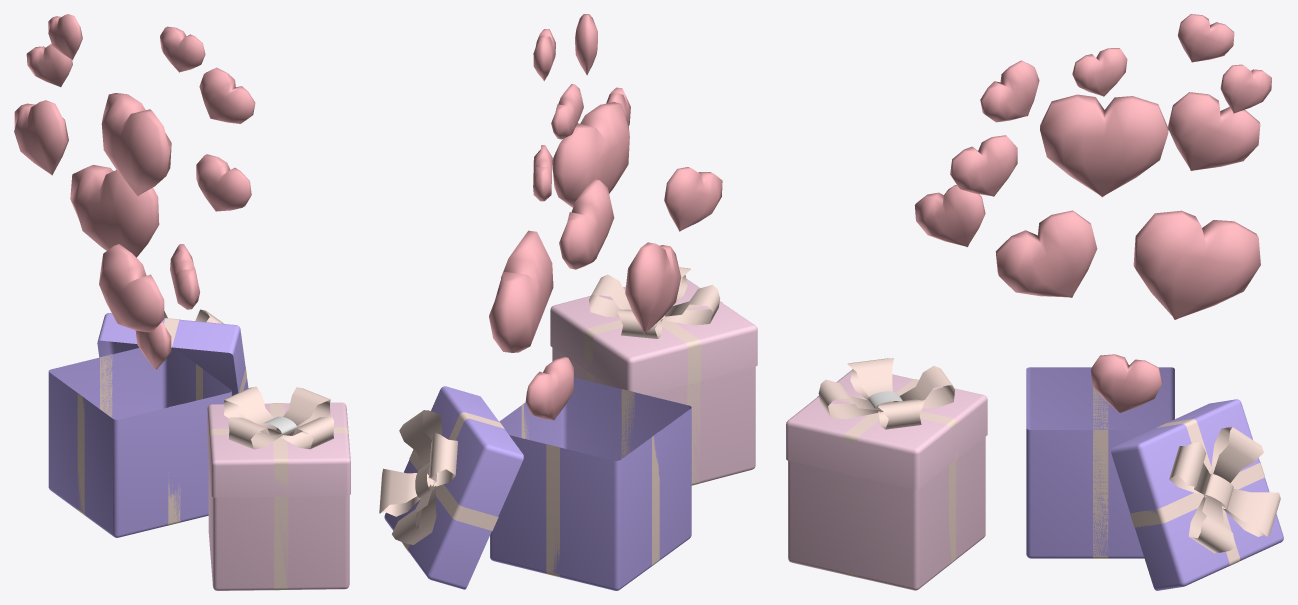
File: 3D  masshiro.glb
The picture shows the model from 3 angles, left to right: view 1: azimuth 30°, elevation 25°; view 2: azimuth 150°, elevation 25°; view 3: azimuth 270°, elevation 25°; orthographic projection. The views are drawn at different scales.
Parts seen in each view (by area): view 1: 平面.025; view 2: 平面.025; view 3: 平面.025.
Boxes of the visible parts, bbox=[...] form: 平面.025: bbox=[14, 14, 350, 590]; 平面.025: bbox=[379, 14, 757, 590]; 平面.025: bbox=[786, 14, 1283, 590].
Bounding box in the file's own units: 3.55 × 7.42 × 6.69.
